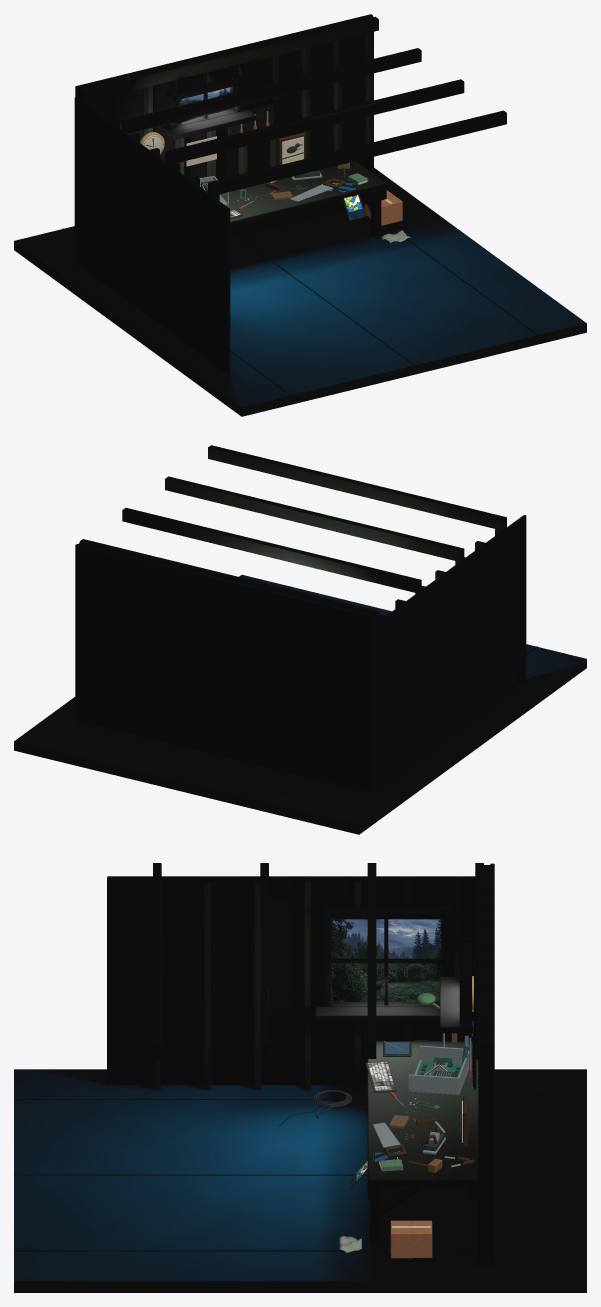
Rendered from workshop-baked.glb.
3 views of the same model, one above another, from view 1: azimuth 30°, elevation 25°; view 2: azimuth 150°, elevation 25°; view 3: azimuth 270°, elevation 25° (orthographic). The views are drawn at different scales.
Parts seen in each view (by area): view 1: Bare poured concrete slab, Unfinished side sheathing, Garage raw rear sheathing, Open garage ceiling joist.002, Open garage ceiling joist.001, Open garage ceiling joist.003, Open garage ceiling joist, Wall-mounted workbench top, Workbench front apron, Deep sill, Exposed garage wall stud.009, Exposed garage wall stud.008 (+5 smaller); view 2: Garage raw rear sheathing, Unfinished side sheathing, Bare poured concrete slab, Open garage ceiling joist.001, Open garage ceiling joist.002, Open garage ceiling joist, Open garage ceiling joist.003, Garage framing plate.001; view 3: Bare poured concrete slab, Unfinished side sheathing, Wall-mounted workbench top, Garden beyond window.001, Exposed garage wall stud.009, Open computer assembly, Garage raw rear sheathing, Open garage ceiling joist.002, Deep sill.001, Open garage ceiling joist, Open garage ceiling joist.001, Open garage ceiling joist.003 (+15 smaller).
Part boxes in pixels (bbox=[...]): Bare poured concrete slab: bbox=[14, 168, 586, 416]; Unfinished side sheathing: bbox=[74, 97, 230, 374]; Garage raw rear sheathing: bbox=[75, 14, 372, 179]; Open garage ceiling joist.002: bbox=[122, 48, 421, 133]; Open garage ceiling joist.001: bbox=[165, 79, 464, 164]; Open garage ceiling joist.003: bbox=[79, 16, 378, 102]; Open garage ceiling joist: bbox=[208, 110, 506, 195]; Wall-mounted workbench top: bbox=[226, 153, 386, 225]; Workbench front apron: bbox=[230, 188, 386, 237]; Deep sill: bbox=[162, 106, 256, 139]; Exposed garage wall stud.009: bbox=[365, 16, 373, 173]; Exposed garage wall stud.008: bbox=[333, 24, 342, 151]; Garage raw rear sheathing: bbox=[75, 544, 372, 792]; Unfinished side sheathing: bbox=[371, 515, 526, 792]; Bare poured concrete slab: bbox=[14, 575, 586, 834]; Open garage ceiling joist.001: bbox=[165, 476, 464, 561]; Open garage ceiling joist.002: bbox=[122, 508, 421, 592]; Open garage ceiling joist: bbox=[208, 445, 506, 530]; Open garage ceiling joist.003: bbox=[79, 539, 378, 624]; Garage framing plate.001: bbox=[78, 543, 377, 622]; Bare poured concrete slab: bbox=[14, 1069, 586, 1292]; Unfinished side sheathing: bbox=[107, 876, 475, 1084]; Wall-mounted workbench top: bbox=[367, 1041, 478, 1185]; Garden beyond window.001: bbox=[331, 919, 441, 1001]; Exposed garage wall stud.009: bbox=[478, 1040, 490, 1255]; Open computer assembly: bbox=[408, 1045, 469, 1095]; Garage raw rear sheathing: bbox=[490, 863, 494, 1265]; Open garage ceiling joist.002: bbox=[367, 863, 376, 1058]; Deep sill.001: bbox=[314, 1002, 439, 1021]; Open garage ceiling joist: bbox=[153, 863, 161, 1058]; Open garage ceiling joist.001: bbox=[260, 863, 268, 1058]; Open garage ceiling joist.003: bbox=[475, 863, 483, 1058].
Size of the model in its own units: 7 by 3.59 by 8.
23 materials, 22 textured.
